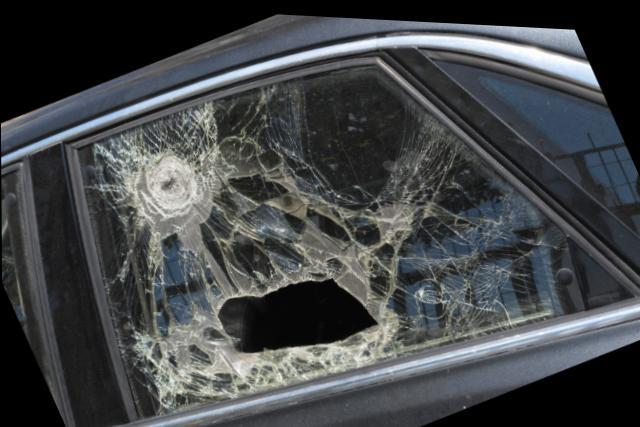glass shatter: (75, 60, 585, 419)
